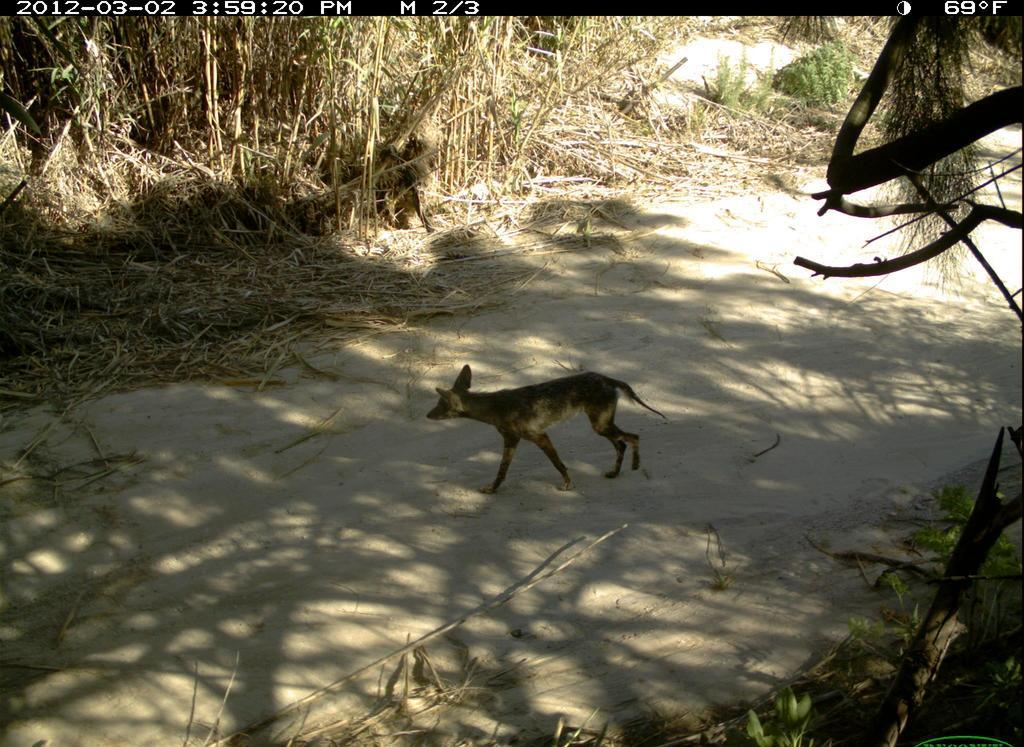coyote: (424, 356, 674, 507)
